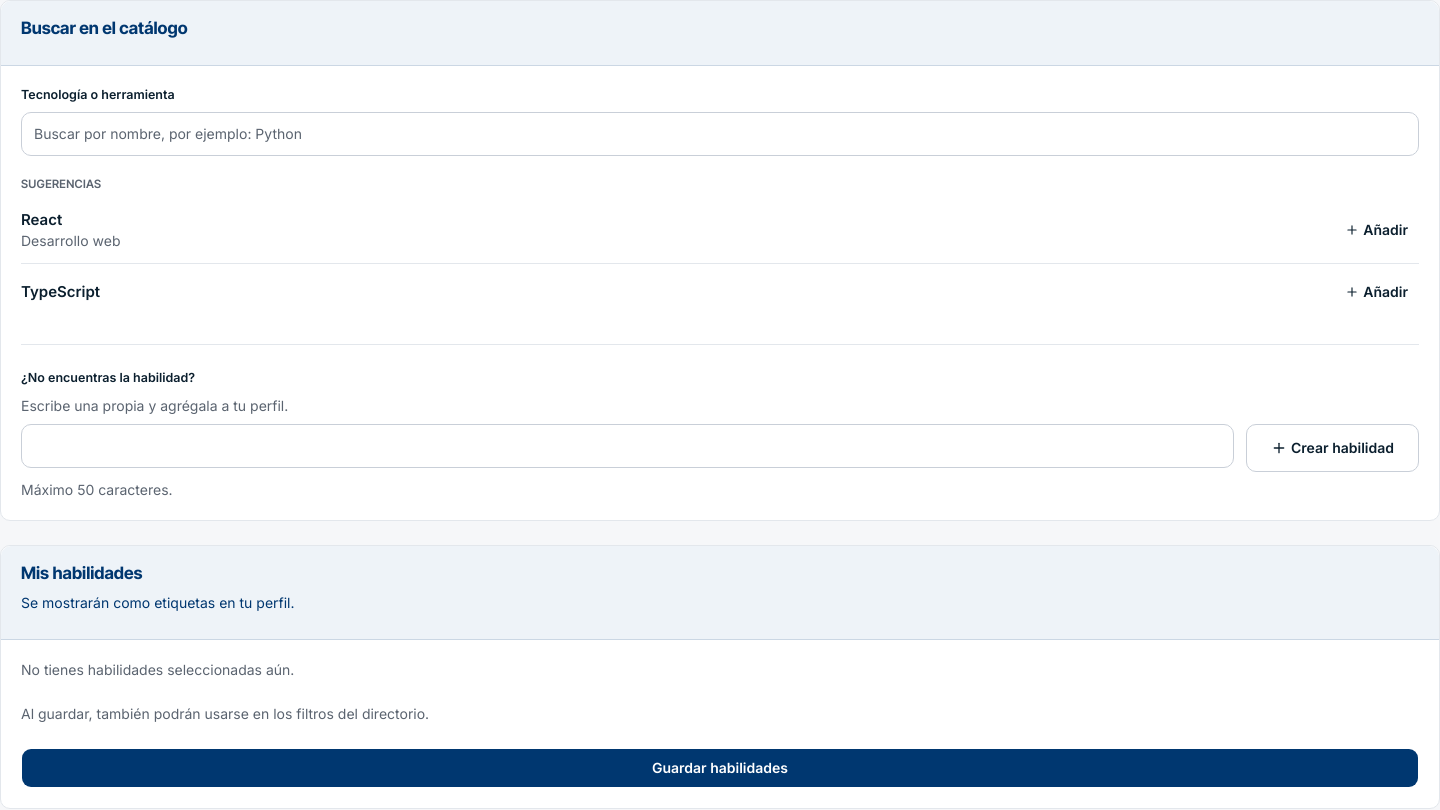
Test: SkillsSelector › shows only the skills that match the search term
Type "  type " into the field labelled "Tecnología o herramienta" at [720, 134], box [21,112,1419,156]
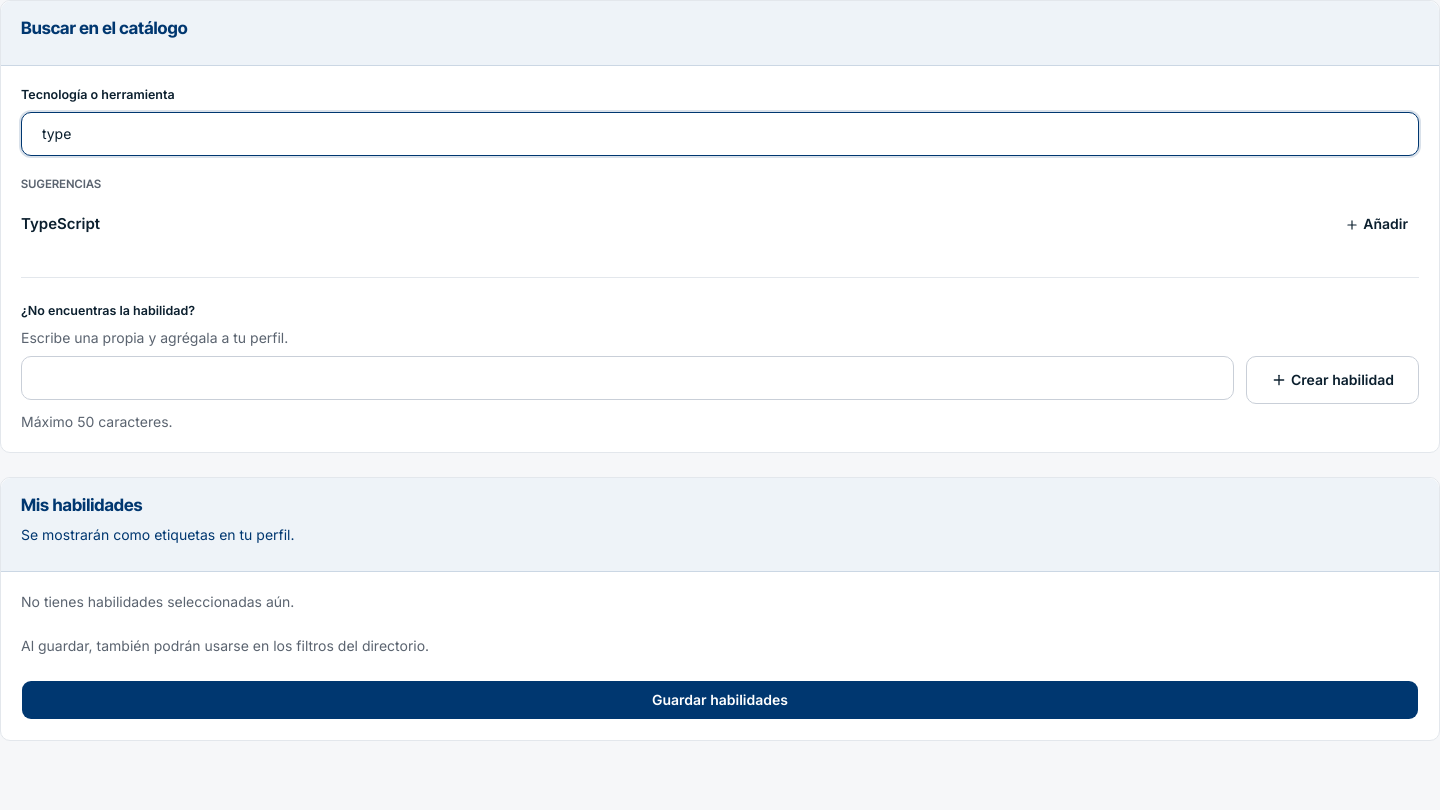
Expected: the text "TypeScript" is shown, [21,213,100,236]
Expected: the text "React" is gone
